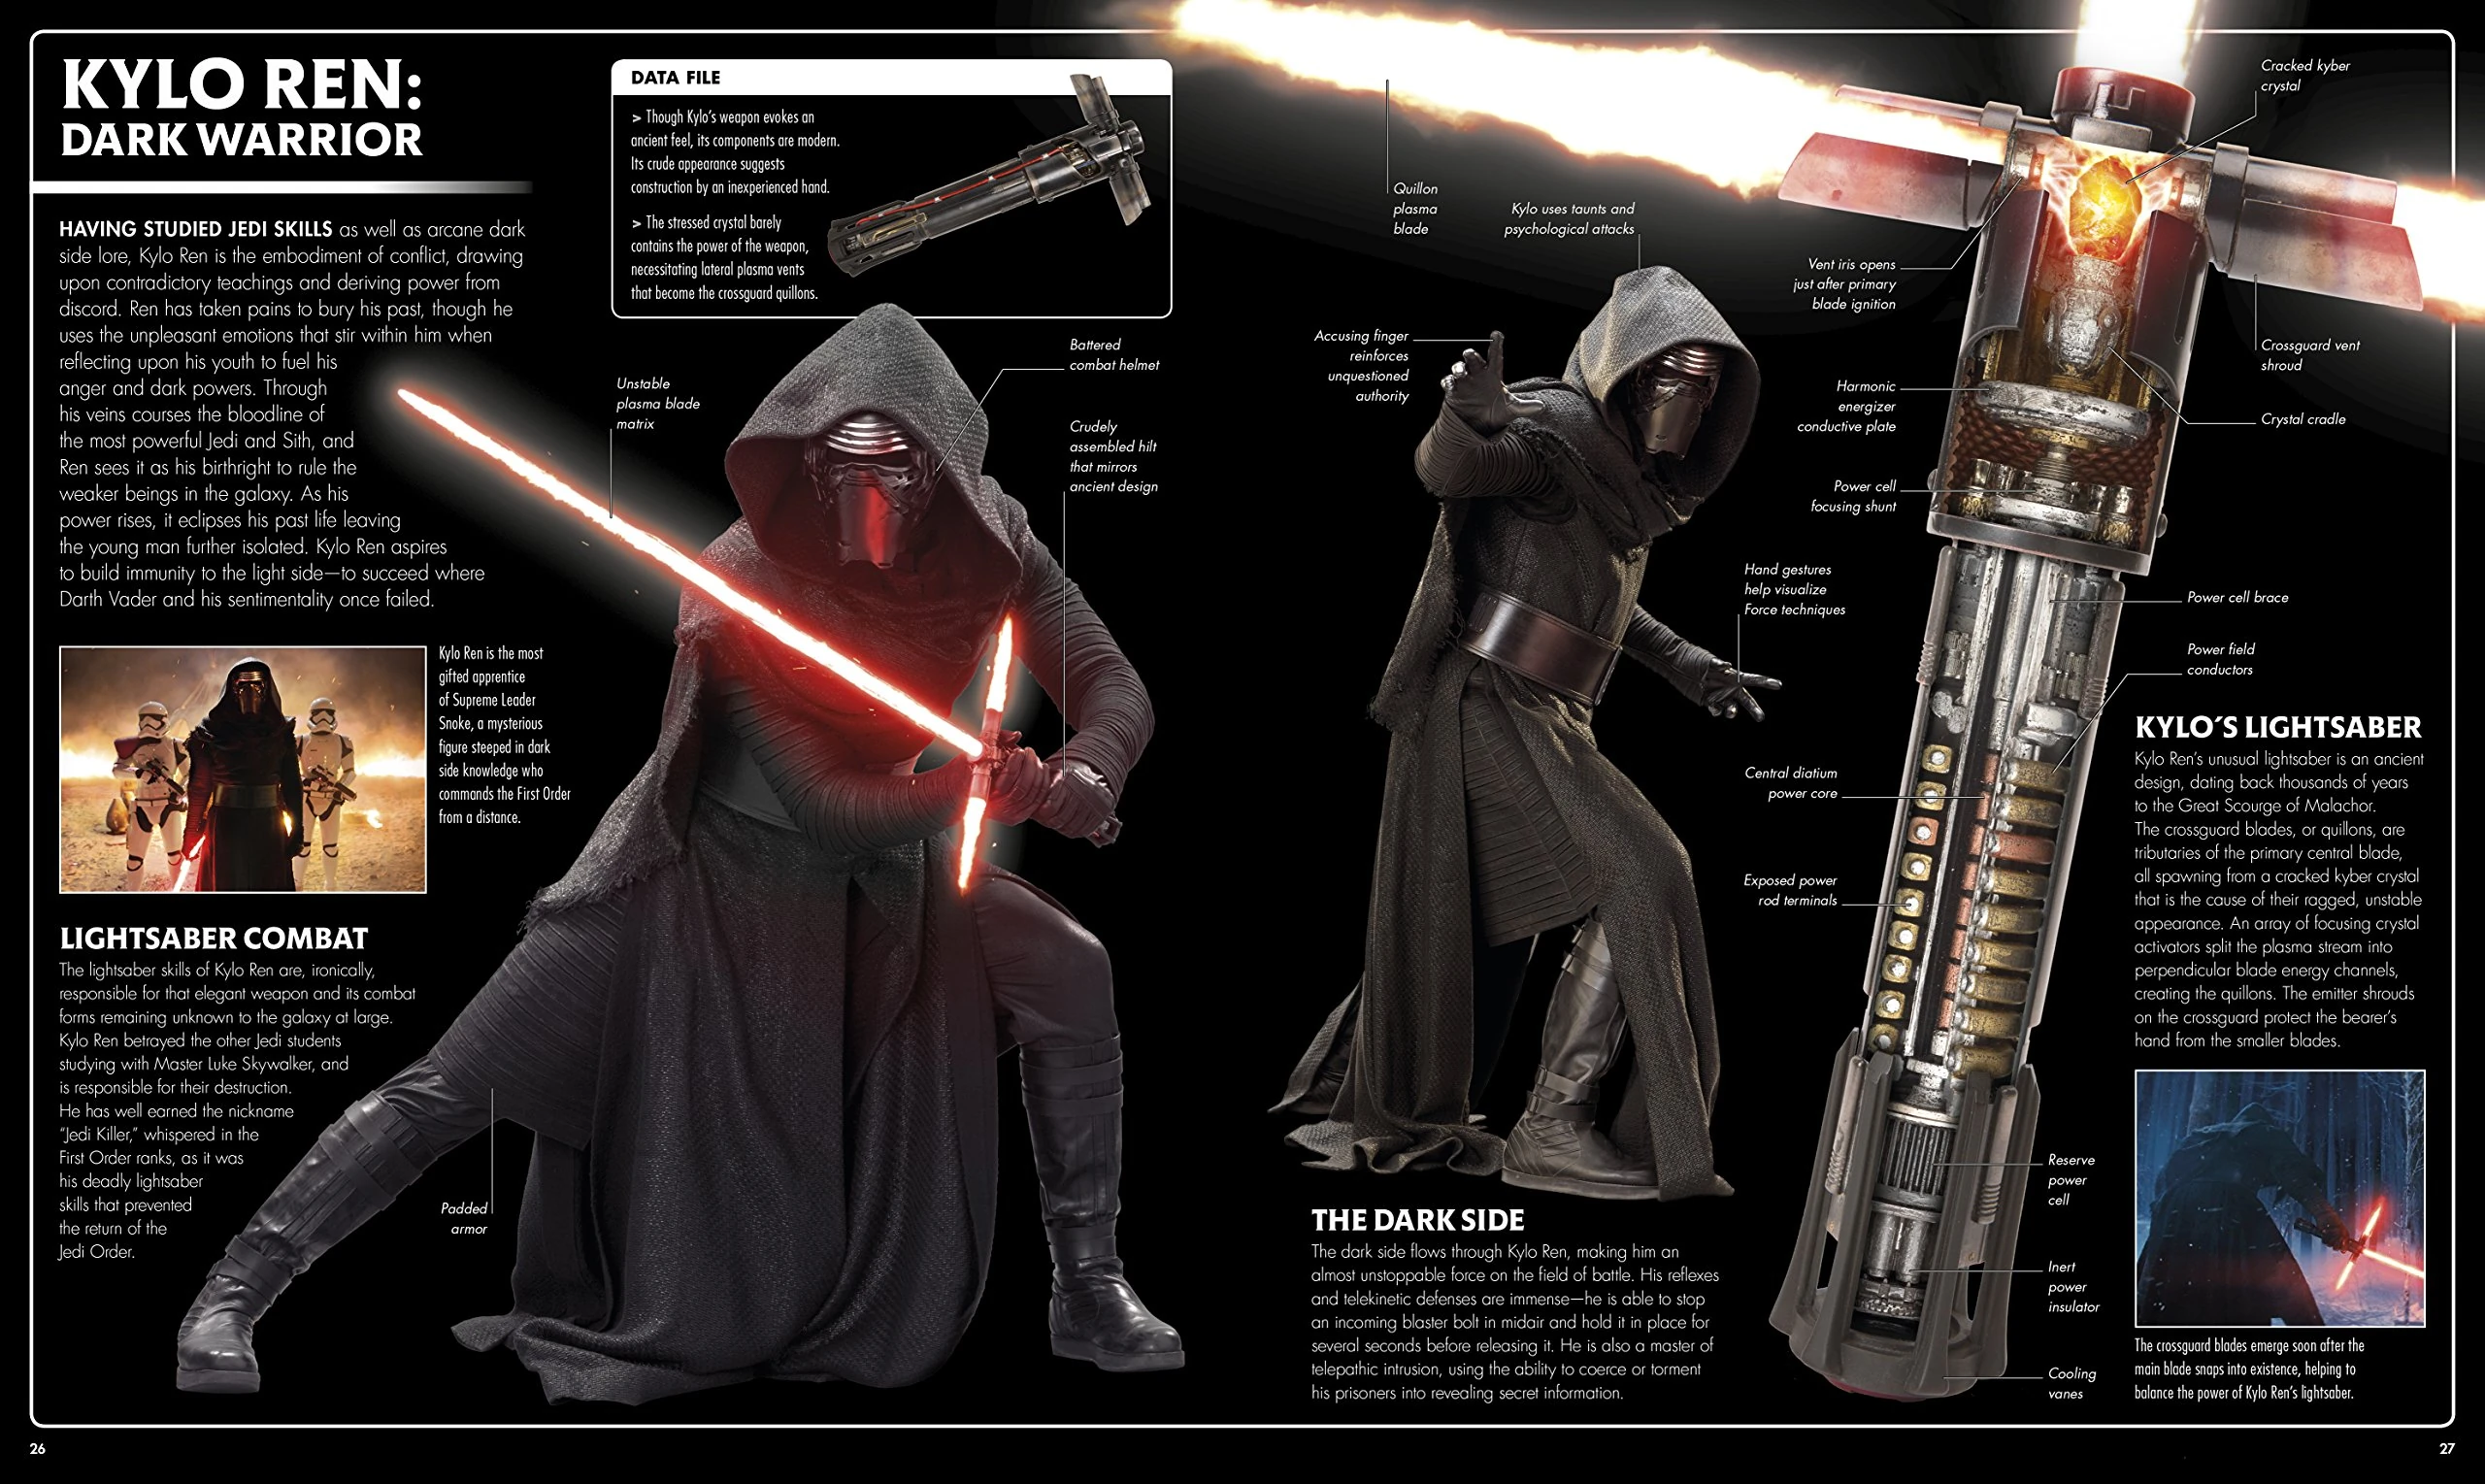cats: (381, 378, 1132, 906)
